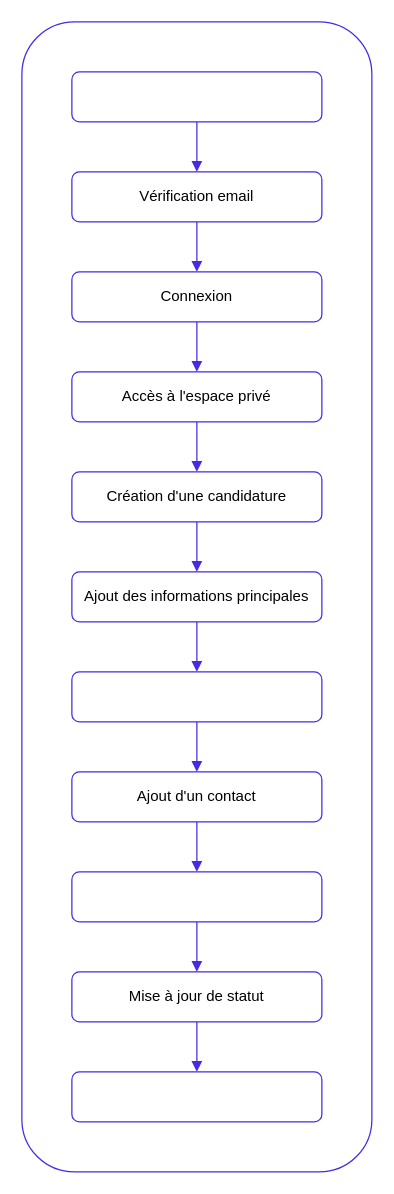
This 394x1194 diagram has some shape labels left out. The shapes that lost their labels are listed below. From the top down, each one's centre as x and y in pixels, then its label:
point 196,96: Inscription
point 196,696: Ajout de tags
point 196,896: Téléversement de documents
point 196,1096: Consultation de l'historique
